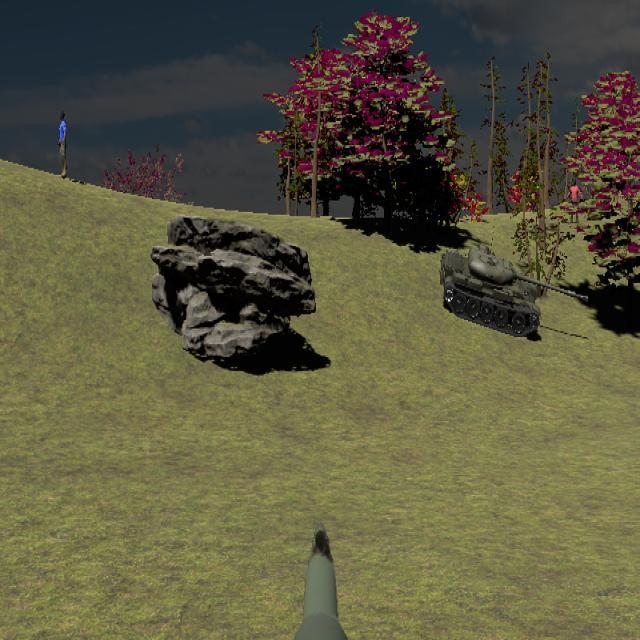Human: (58, 110, 67, 178)
Tank: (441, 246, 589, 338)
